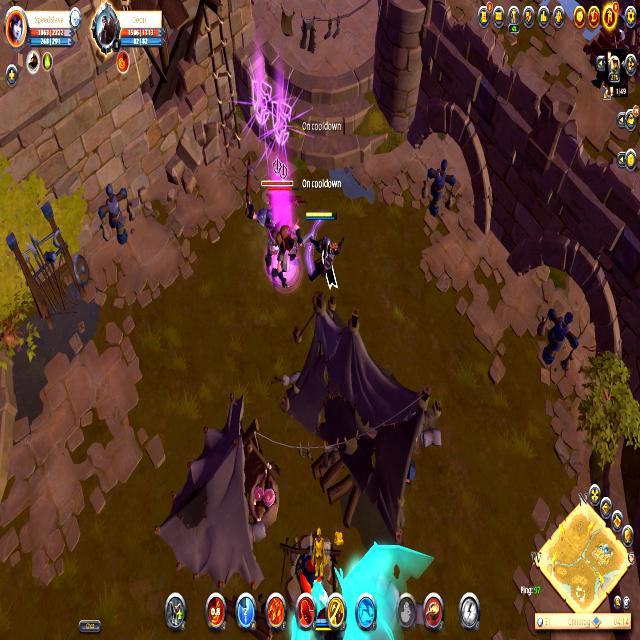ore: (251, 157, 302, 292)
red: (302, 206, 342, 288)
